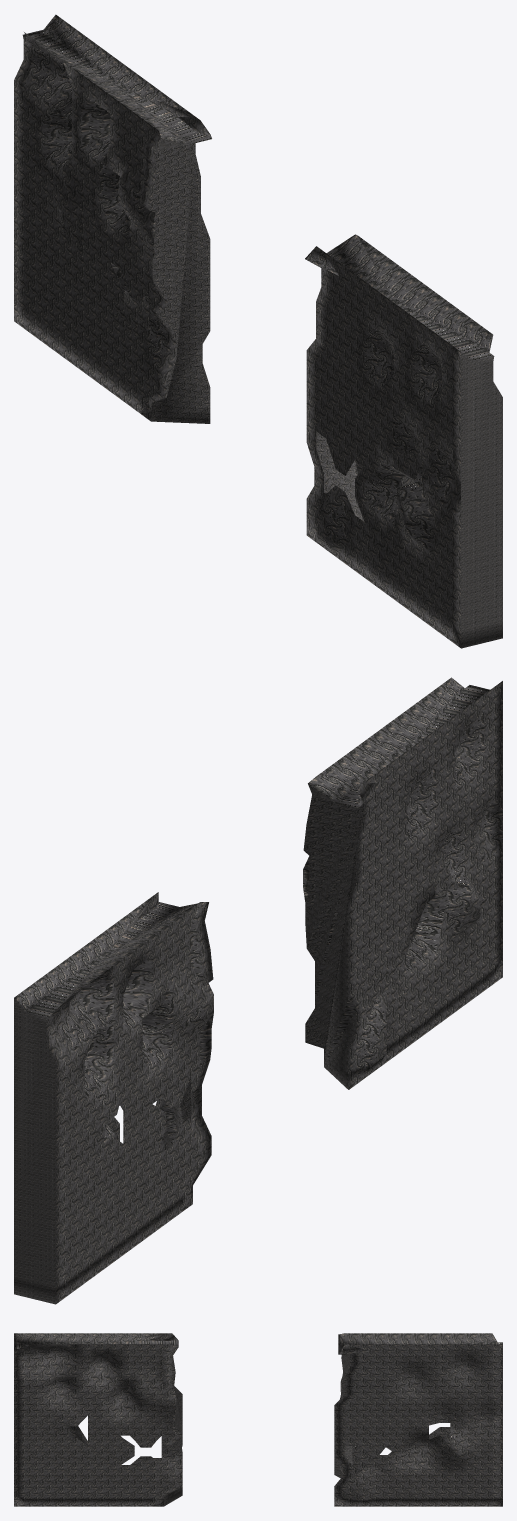
Rendered from Door_001.fbx.
3 views of the same model, one above another, from view 1: azimuth 30°, elevation 25°; view 2: azimuth 150°, elevation 25°; view 3: azimuth 270°, elevation 25° (orthographic). The views are drawn at different scales.
Visible parts, largest first — view 1: BrokenDoor02, BrokenDoor01; view 2: BrokenDoor02, BrokenDoor01; view 3: BrokenDoor02, BrokenDoor01.
Part boxes in pixels (bbox=[...]): BrokenDoor02: bbox=[14, 14, 211, 423]; BrokenDoor01: bbox=[305, 234, 502, 648]; BrokenDoor02: bbox=[14, 892, 213, 1304]; BrokenDoor01: bbox=[303, 677, 502, 1089]; BrokenDoor02: bbox=[334, 1333, 502, 1506]; BrokenDoor01: bbox=[14, 1333, 182, 1506].
Bounding box in the file's own units: 1.55 × 5.93 × 16.21.
Materials: 2 (2 with a texture image).
